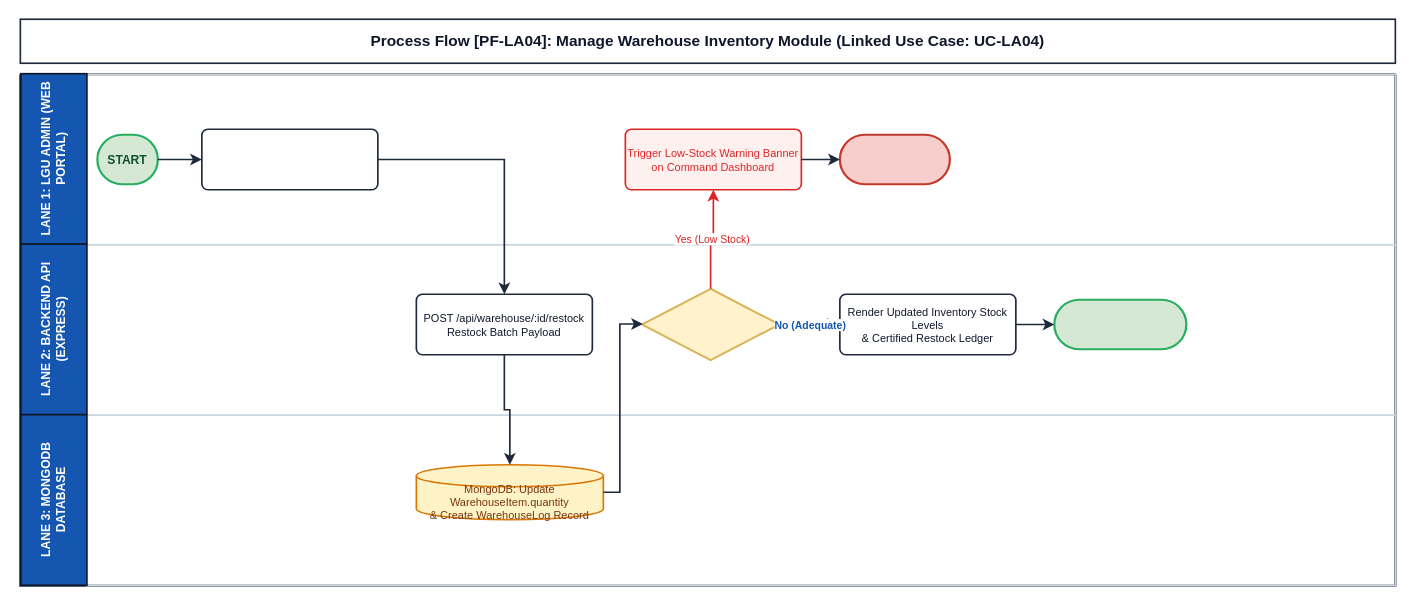
Image size: 1415x606. Some labels were removed from this diagram. Each missing label, with the centre of its shape:
"END (Stock Verified)" goes at (1120,324).
"END: Low Buffer" goes at (894,159).
"Log Inventory Restock: Item Category, Quantity, Batch" goes at (289,159).
"Stock Below Buffer Limit?" goes at (710,324).
